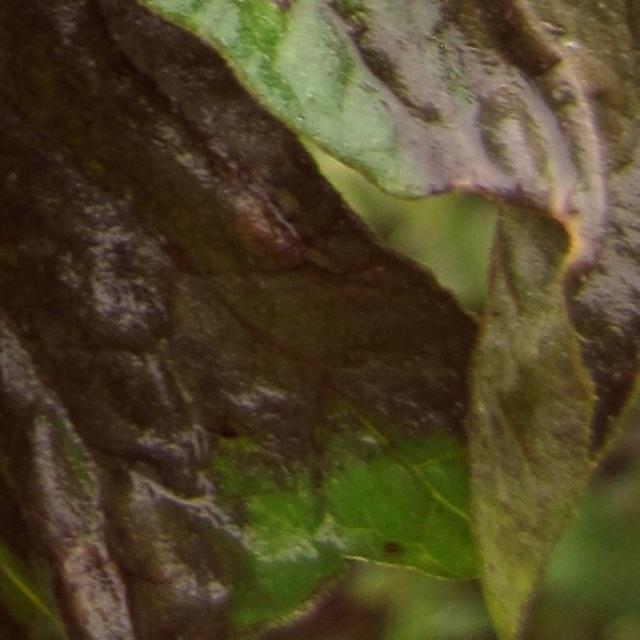Tomato leaf late blight: (0, 0, 640, 590), (0, 0, 436, 640)
